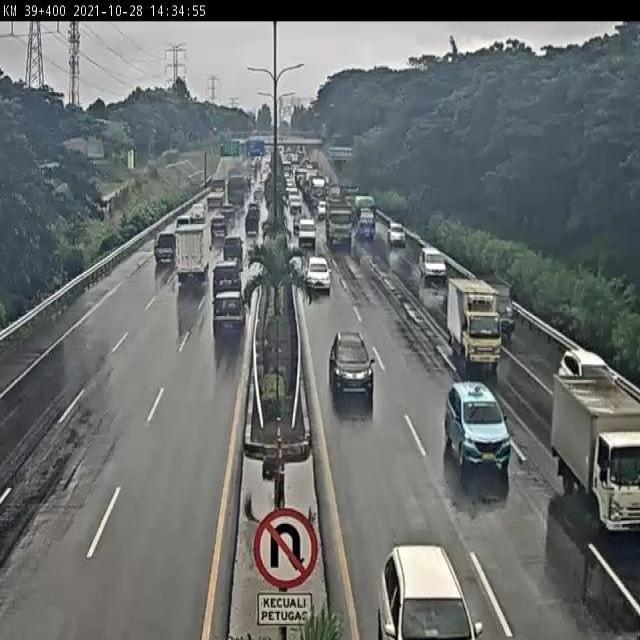big truck: (318, 188, 355, 255), (350, 191, 378, 237)
car: (376, 530, 483, 640), (440, 368, 513, 481), (324, 315, 381, 413), (202, 293, 249, 348), (555, 344, 619, 379), (205, 275, 247, 324), (409, 242, 447, 282), (146, 232, 179, 272), (211, 242, 245, 274), (302, 250, 329, 290), (293, 208, 316, 248), (199, 217, 228, 248), (381, 215, 405, 244)
small truck: (542, 381, 640, 540), (435, 268, 487, 359), (168, 224, 217, 297), (469, 267, 498, 324)
